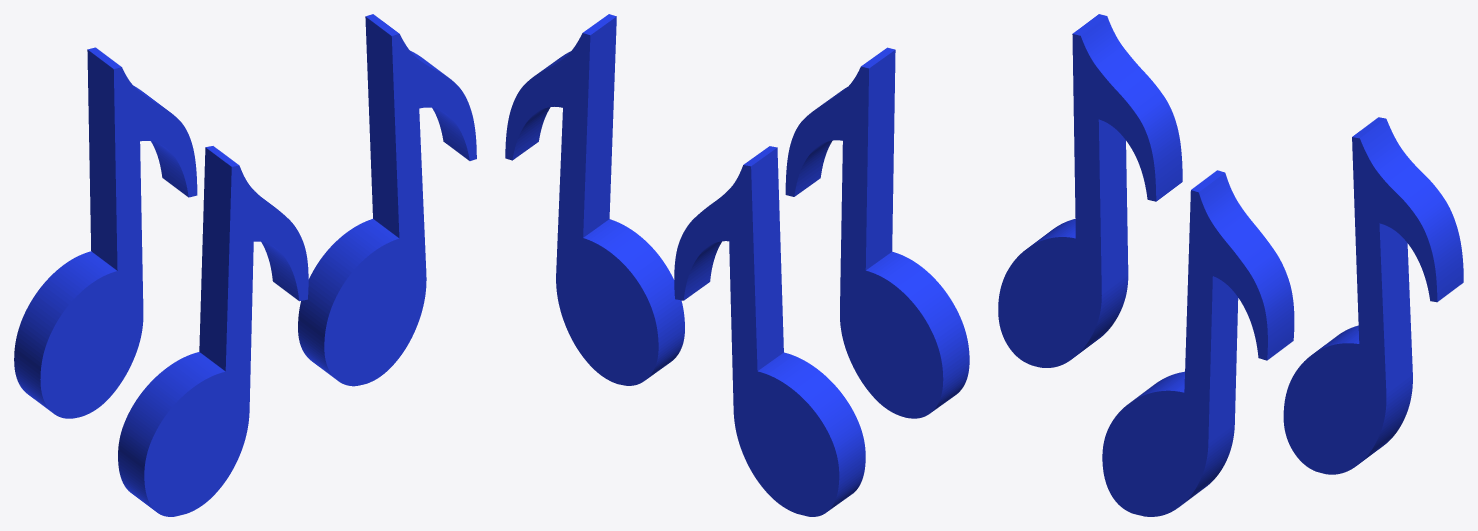
3 renders of one model, left to right at view 1: azimuth 30°, elevation 25°; view 2: azimuth 150°, elevation 25°; view 3: azimuth 330°, elevation 25°, orthographic.
Visible parts, largest first — view 1: Object_4; view 2: Object_4; view 3: Object_4.
Boxes of the visible parts, x1=… form: Object_4: x1=14, y1=14, x2=476, y2=516; Object_4: x1=505, y1=14, x2=969, y2=516; Object_4: x1=998, y1=14, x2=1463, y2=516.
Size of the model in its own units: 0.9069 by 0.9183 by 0.0964.
